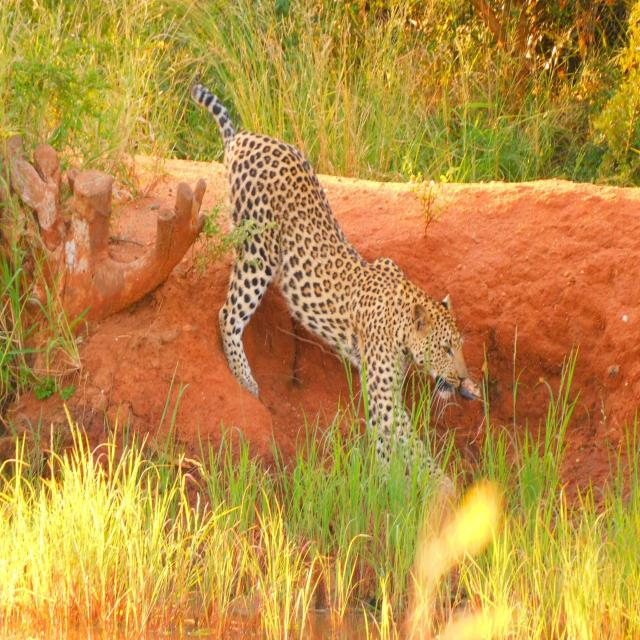Leopard: (166, 46, 484, 493)
